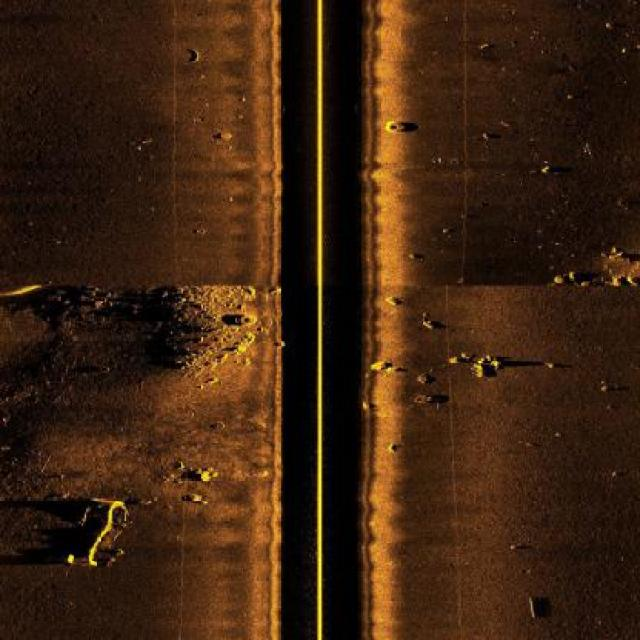mine: (408, 392, 452, 414), (524, 594, 556, 623), (475, 39, 500, 50)
other: (57, 491, 138, 572), (178, 42, 211, 67), (243, 310, 275, 332), (382, 118, 409, 137), (421, 316, 448, 332), (197, 222, 215, 244)
